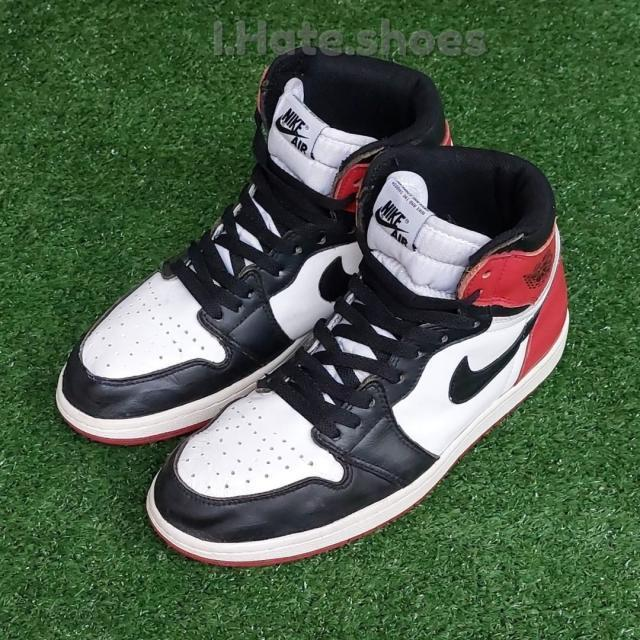nike fake jordan 1: (142, 144, 572, 572), (53, 50, 450, 449)
